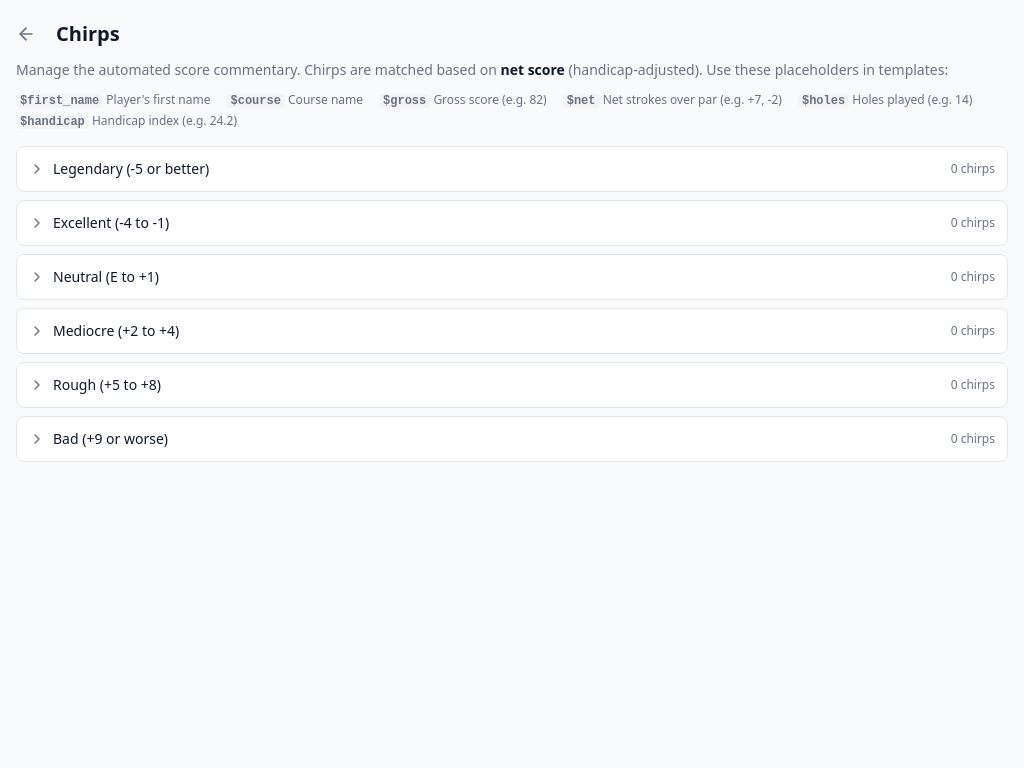
it: ChirpsPage — Flag OFF (legacy mode) › shows add form when "Add Chirp" is clicked
Click the text "Legendary (-5 or better)": (131, 169) [53,159,209,179]
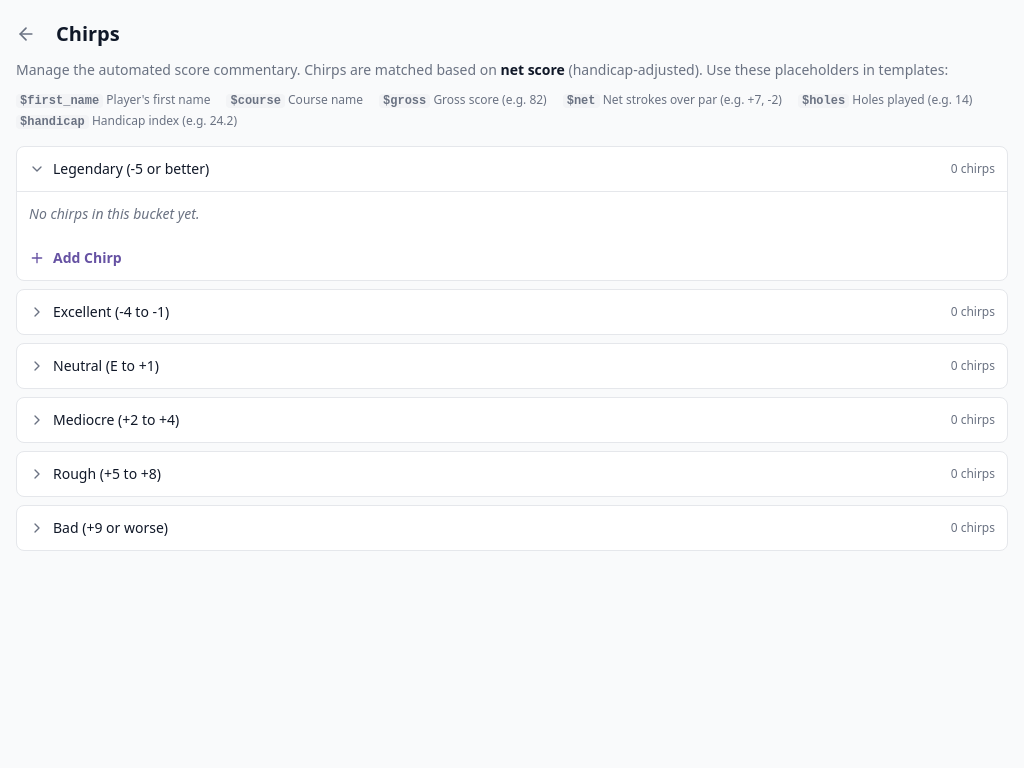
Now the button "Add Chirp" is shown
Click the button "Add Chirp": (87, 258) [17,236,1007,280]
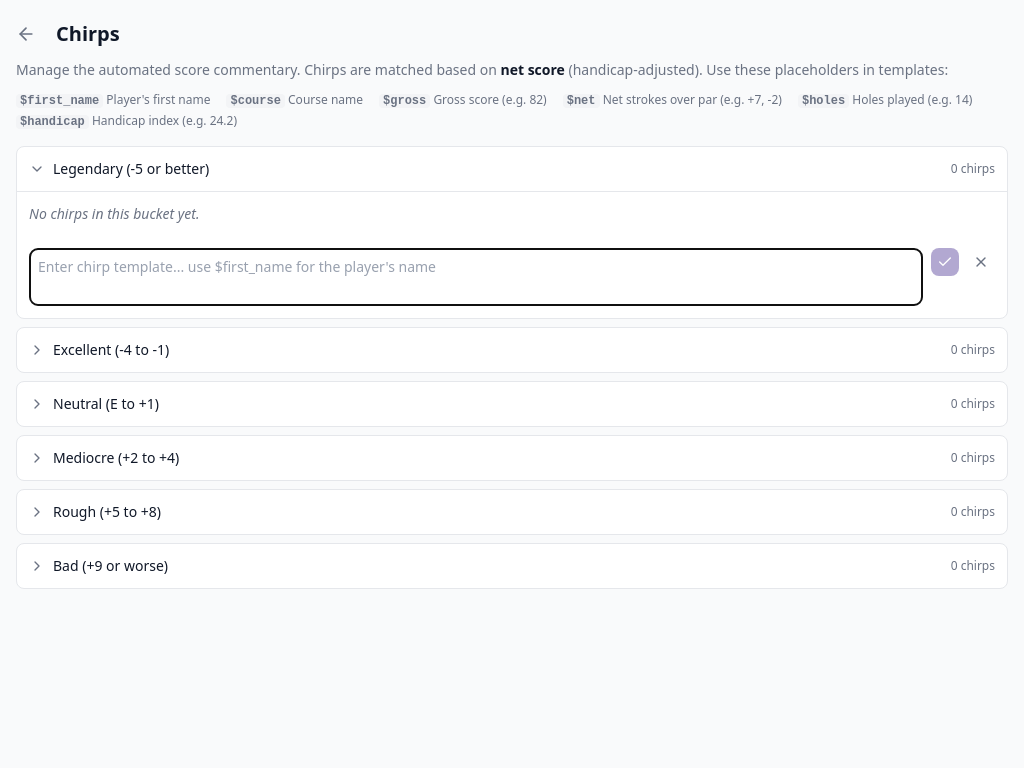
Now the text box with placeholder "Enter chirp template" is shown, box [29,248,923,306]
